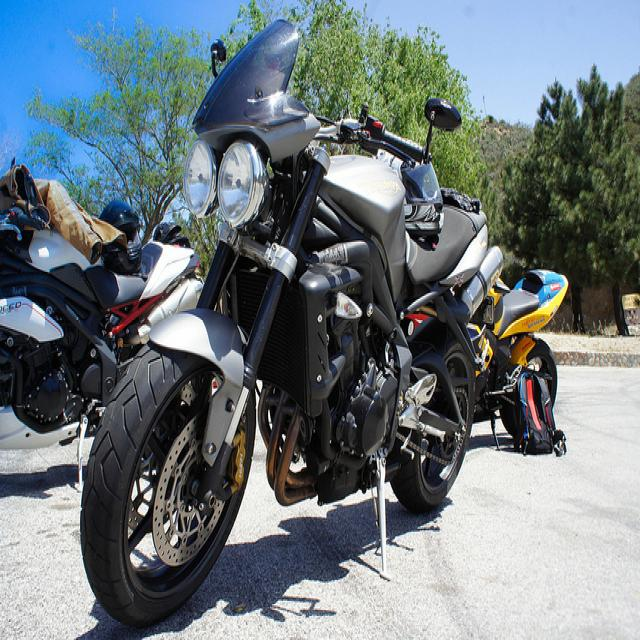motor: (84, 22, 501, 618), (0, 162, 209, 494), (471, 265, 569, 438)
